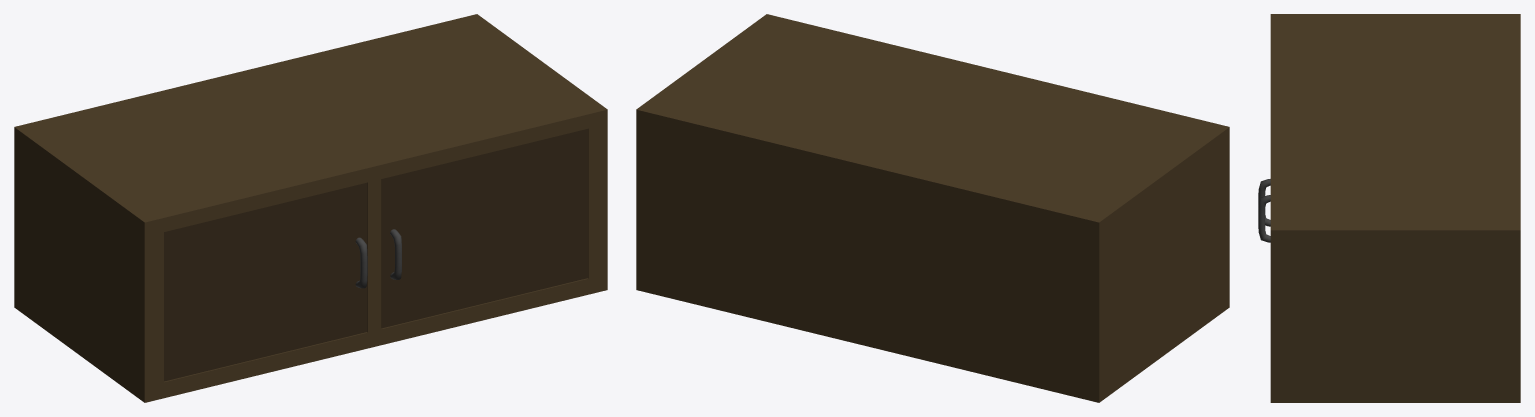
Rendered from Books_Shelve.fbx.
The picture shows the model from 3 angles, left to right: view 1: azimuth 30°, elevation 25°; view 2: azimuth 150°, elevation 25°; view 3: azimuth 270°, elevation 25°; orthographic projection. The views are drawn at different scales.
Parts seen in each view (by area): view 1: Armario_Libros, PuertaArmarioLibros02, PuertaArmarioLibros01; view 2: Armario_Libros; view 3: Armario_Libros, Manilla_001.
Part boxes in pixels (bbox=[...]): Armario_Libros: bbox=[14, 14, 607, 402]; PuertaArmarioLibros02: bbox=[381, 129, 588, 328]; PuertaArmarioLibros01: bbox=[164, 182, 367, 381]; Armario_Libros: bbox=[636, 14, 1229, 402]; Armario_Libros: bbox=[1270, 14, 1520, 402]; Manilla_001: bbox=[1258, 195, 1270, 242].
Size of the model in its own units: 51.94 by 19.34 by 26.64.
